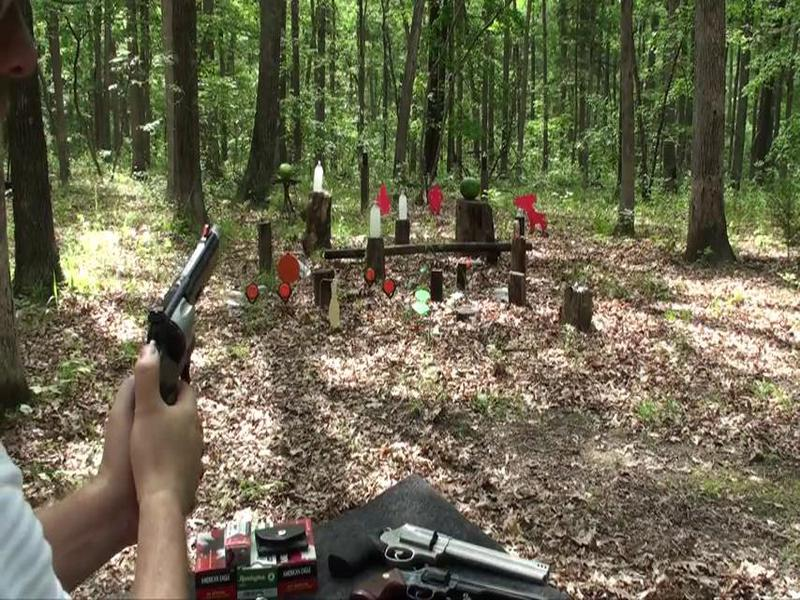Revolver: (137, 189, 253, 433)
